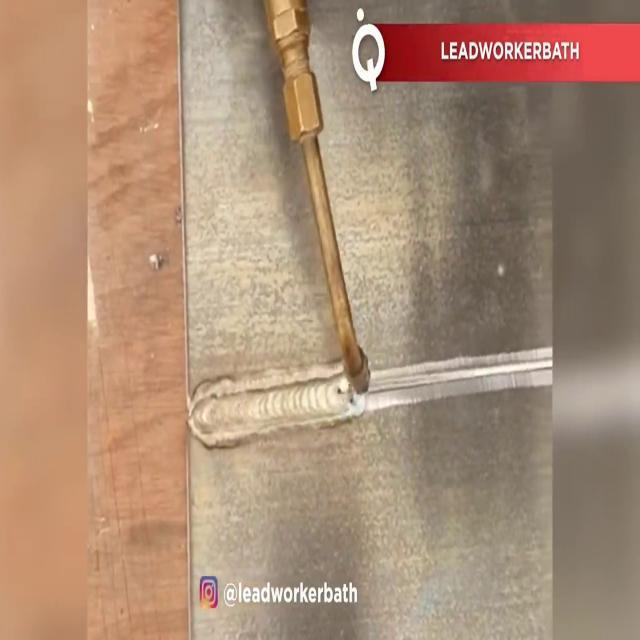Good Weld: (188, 376, 339, 434)
